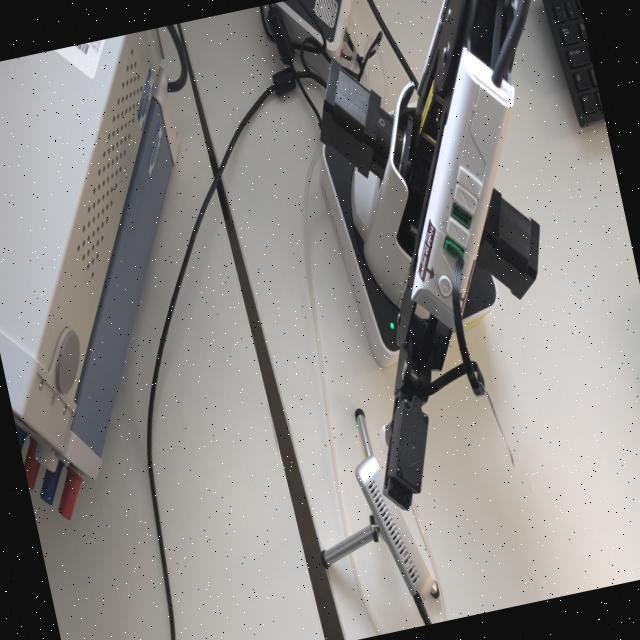Robot-end-effector-HF8z: (360, 387, 453, 516)
